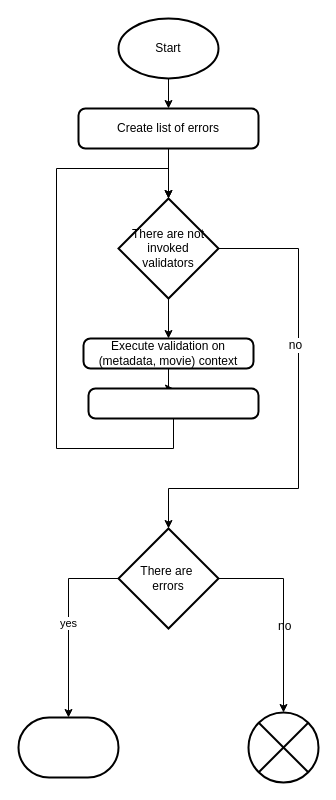
This 336x800 diagram has some shape labels left out. Here are the shapes that lost their labels. From the top down, the centre of each, then its label:
At pixel 173 403: "Add errors to list of errors".
At pixel 68 747: "throw exception".
